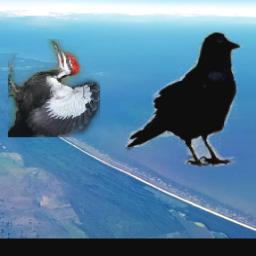Crow: (124, 30, 243, 166)
Woodpecker: (7, 40, 99, 138)
